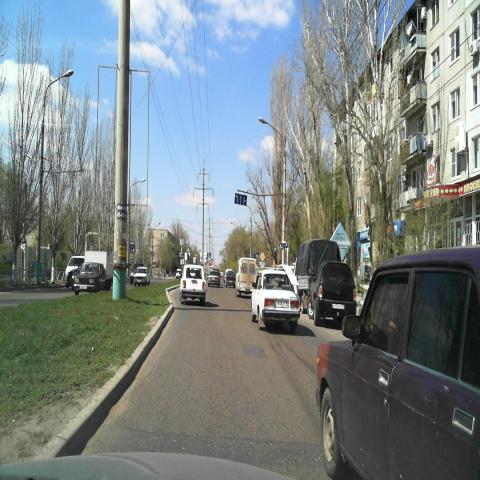2_1: (260, 251, 265, 262)
5_15_1: (235, 192, 247, 206)
